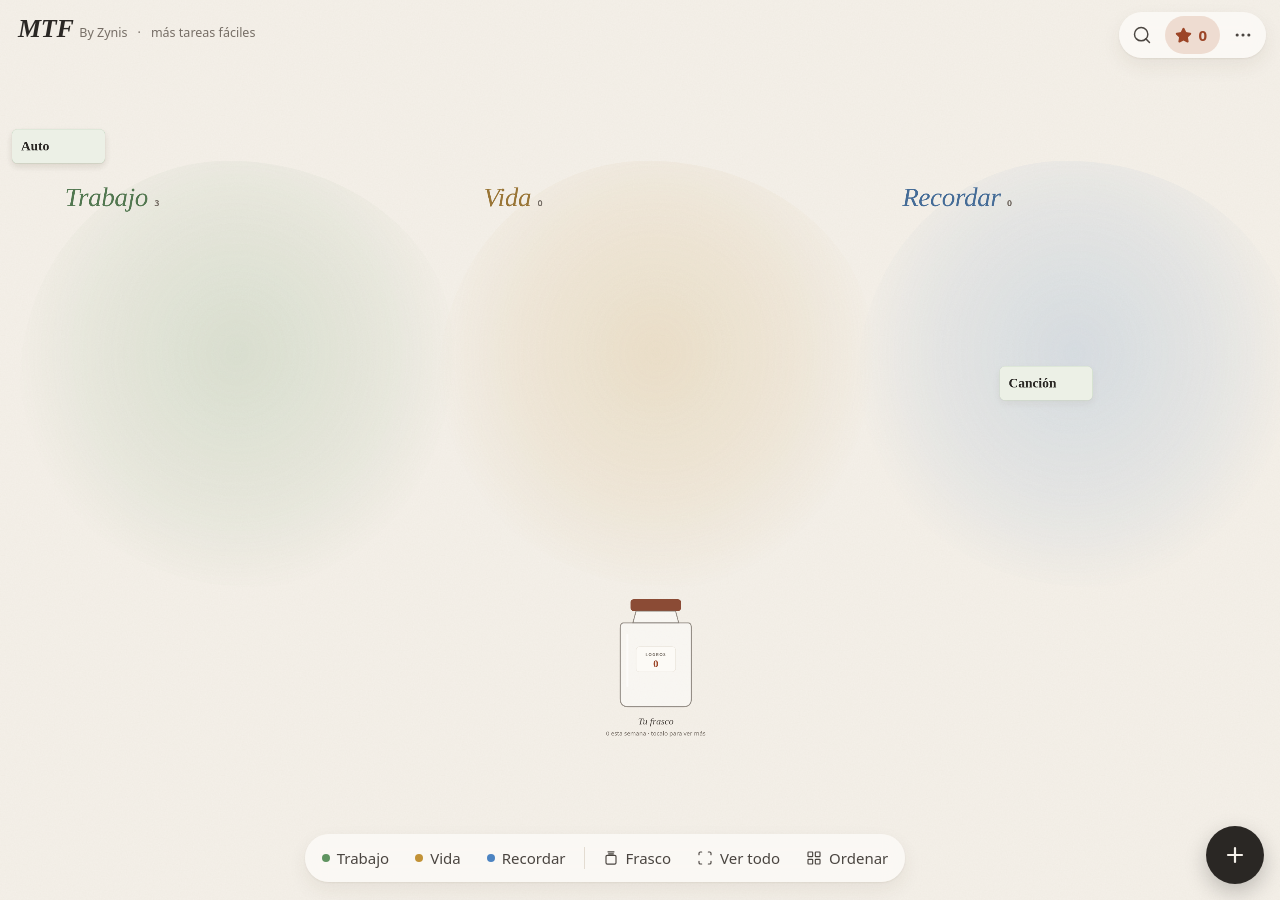
Test: search › Esc closes an open sheet first, not the search
Click the button named "Buscar" at coordinates (1142, 35), box x1=1123 y1=16 x2=1161 y2=54
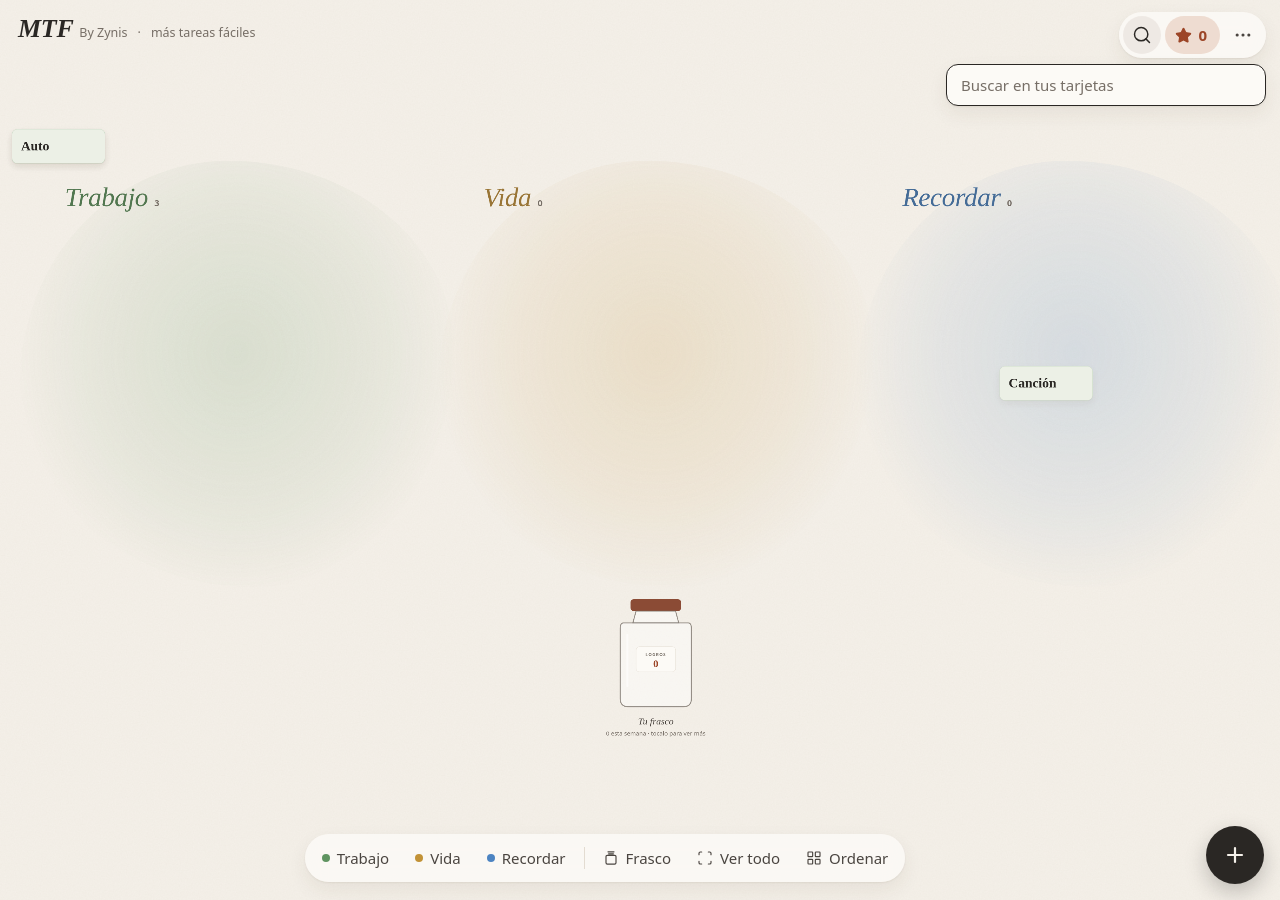
Type "auto" into the search field labelled "Buscar en tus tarjetas" at coordinates (1106, 85), box x1=946 y1=64 x2=1266 y2=106
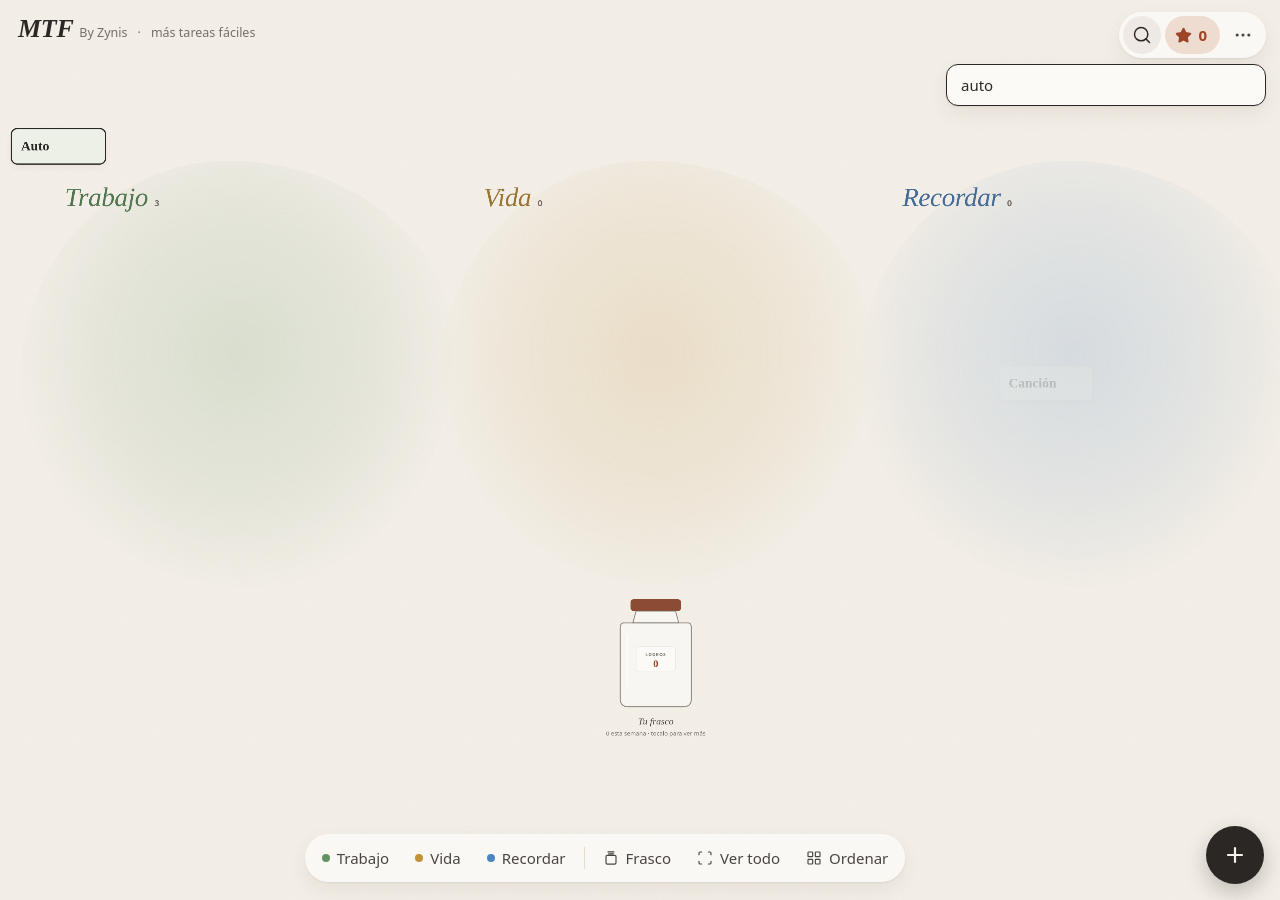
Click the button named "Ajustes" at coordinates (1243, 35), box x1=1224 y1=16 x2=1262 y2=54
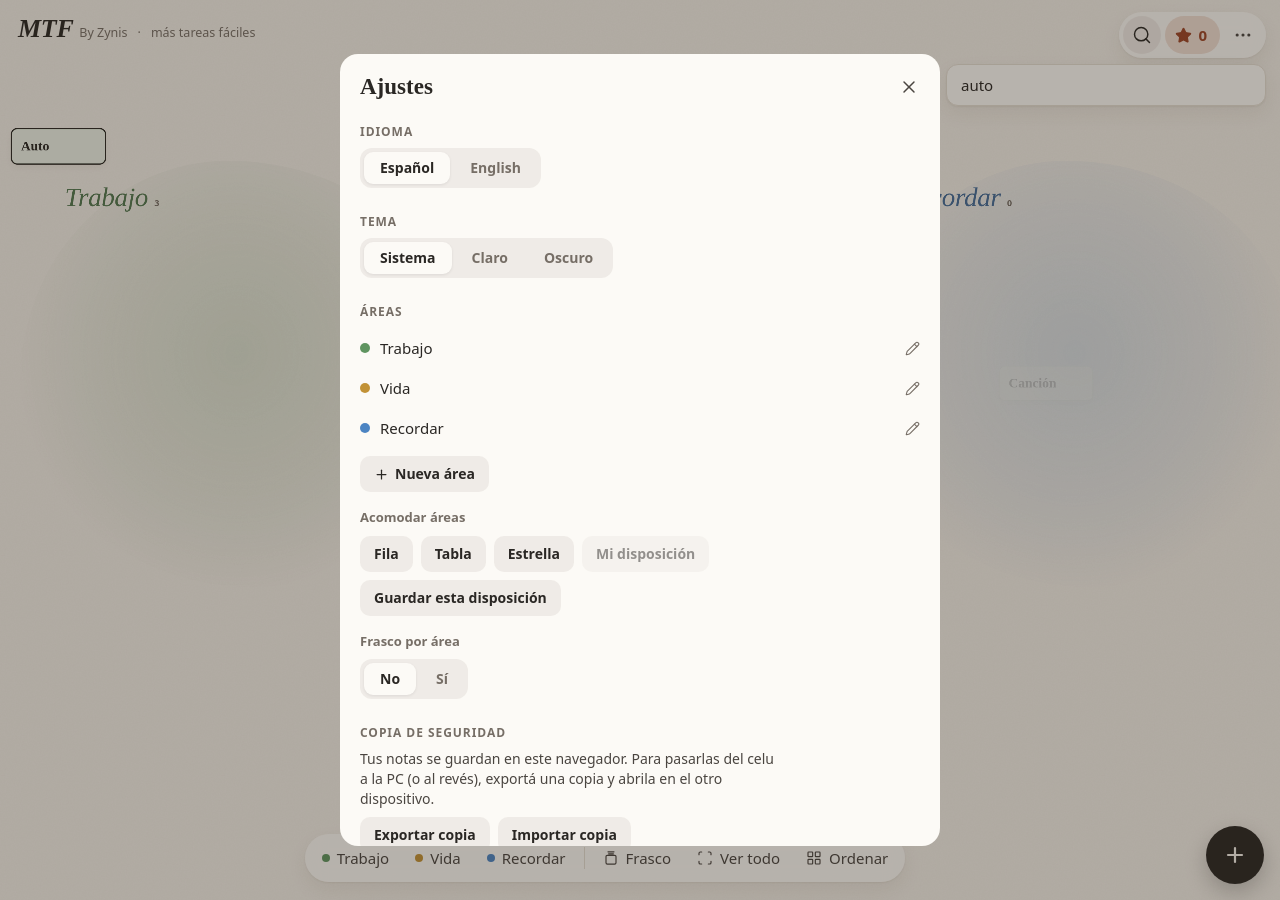
Press Escape
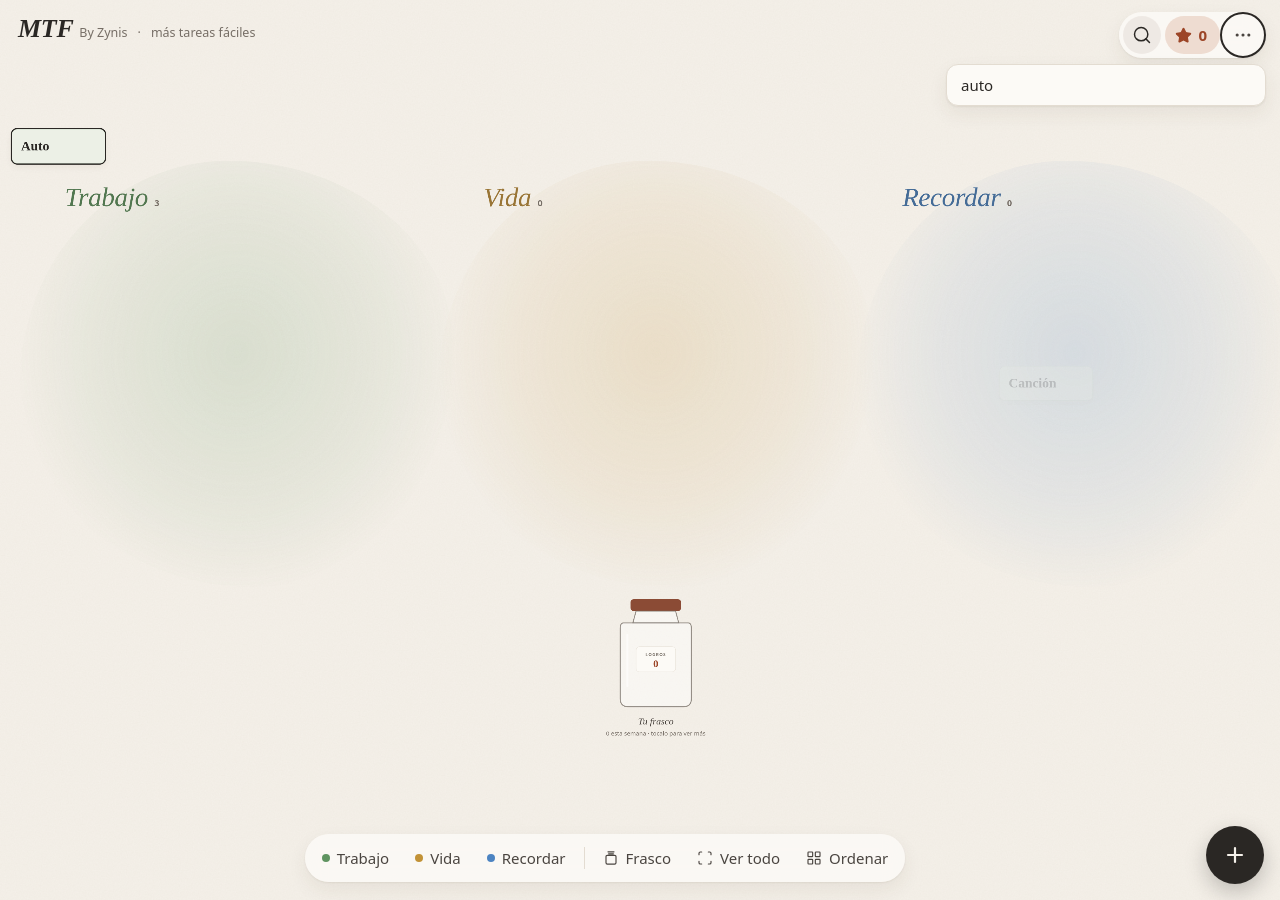
Expected: the dialog is gone
